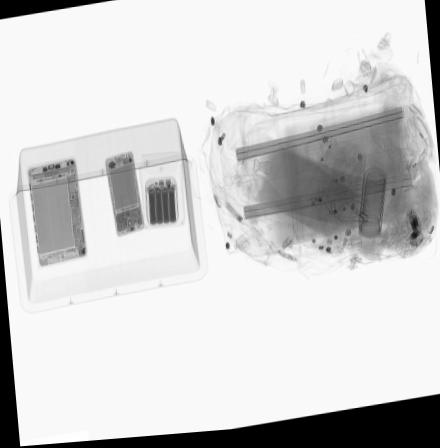Lighter: (223, 202, 242, 226)
